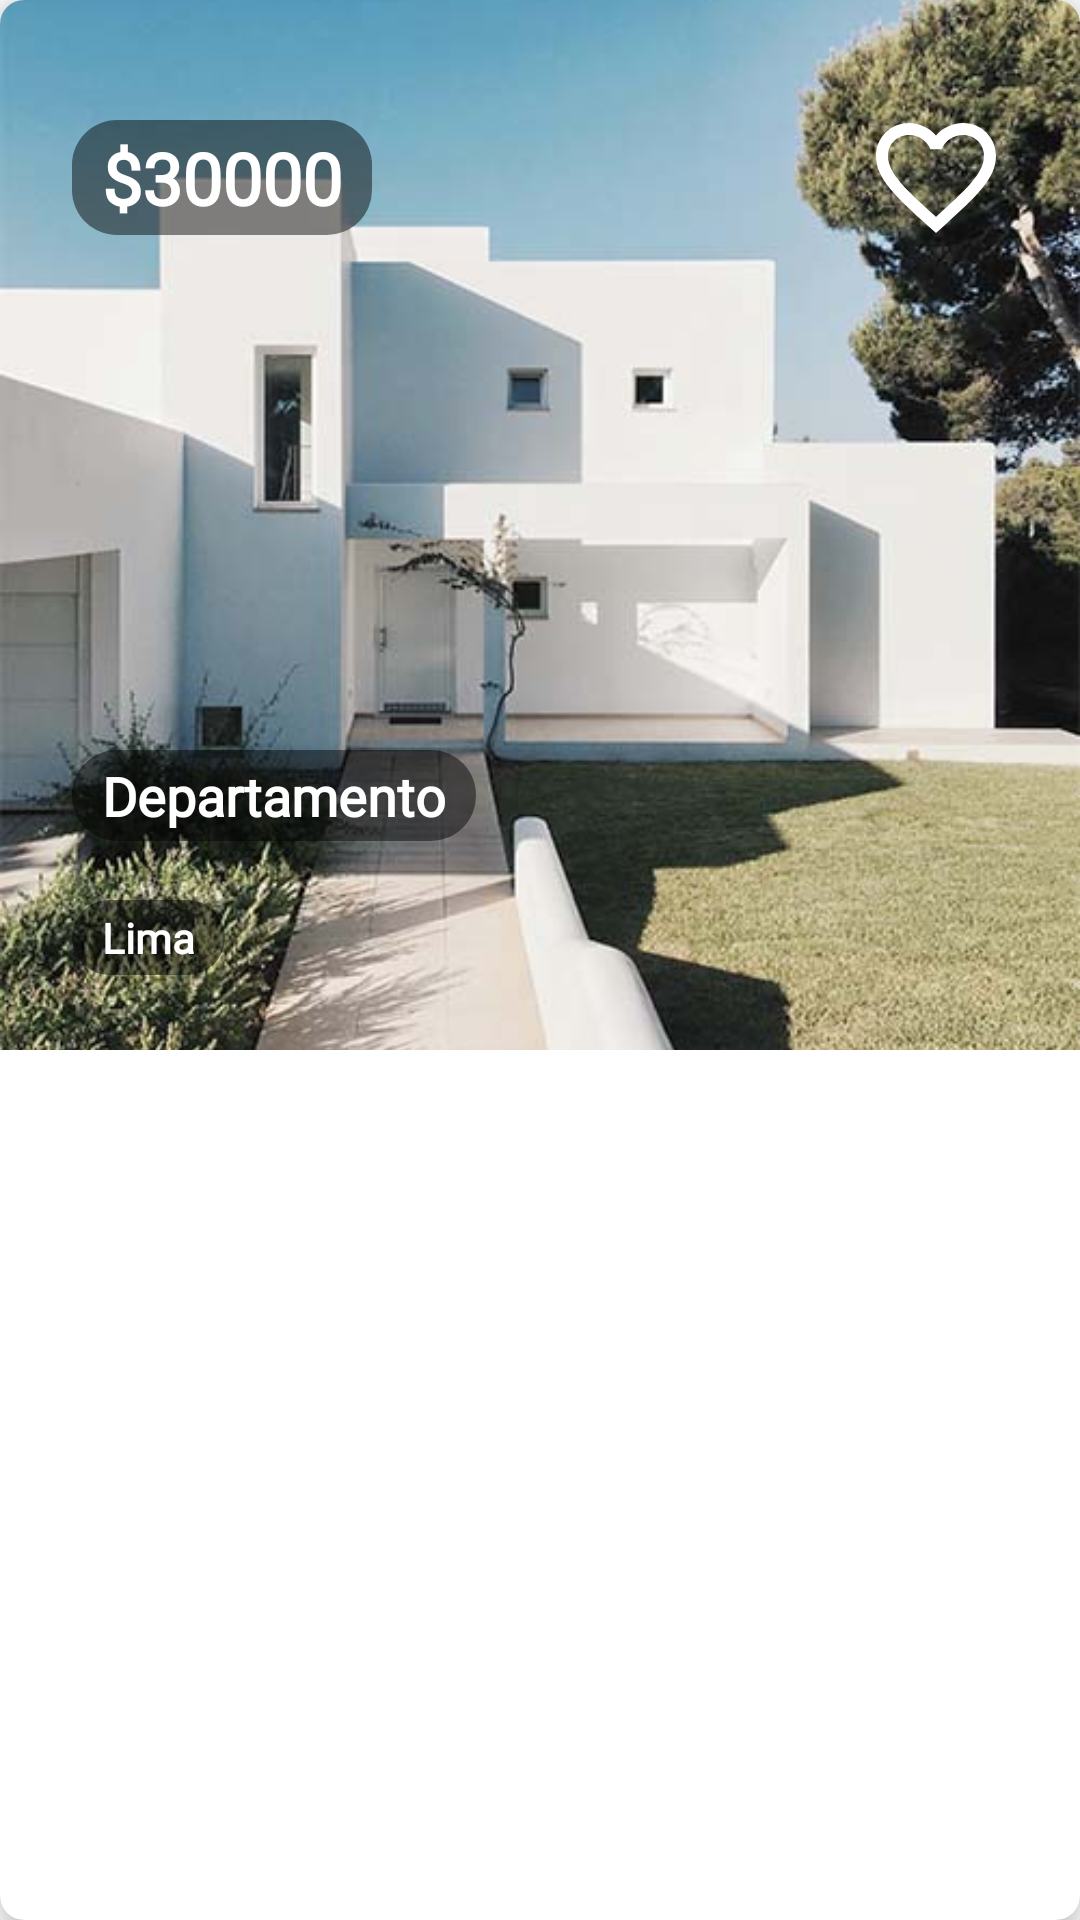

Icons on this 1080*1920 Android screen, each with the point to tap as point (x, y):
no liked: point (936, 177)
